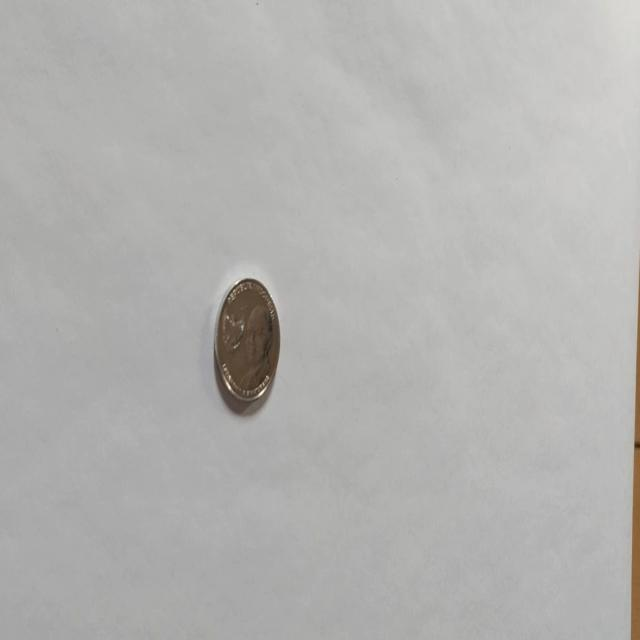lima ratus rupiah: (213, 276, 281, 404)
